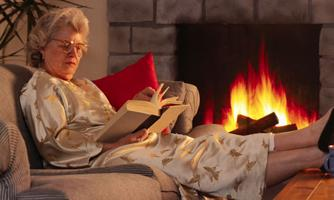person: (21, 8, 333, 200)
